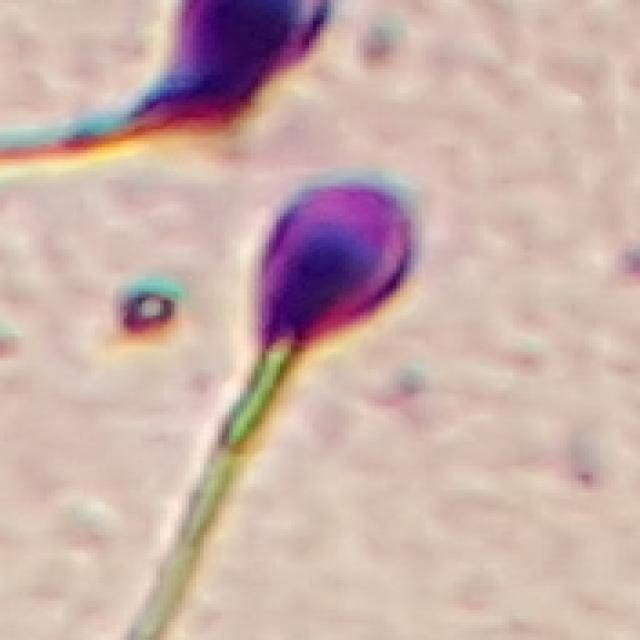normal sperm: (216, 178, 423, 452)
